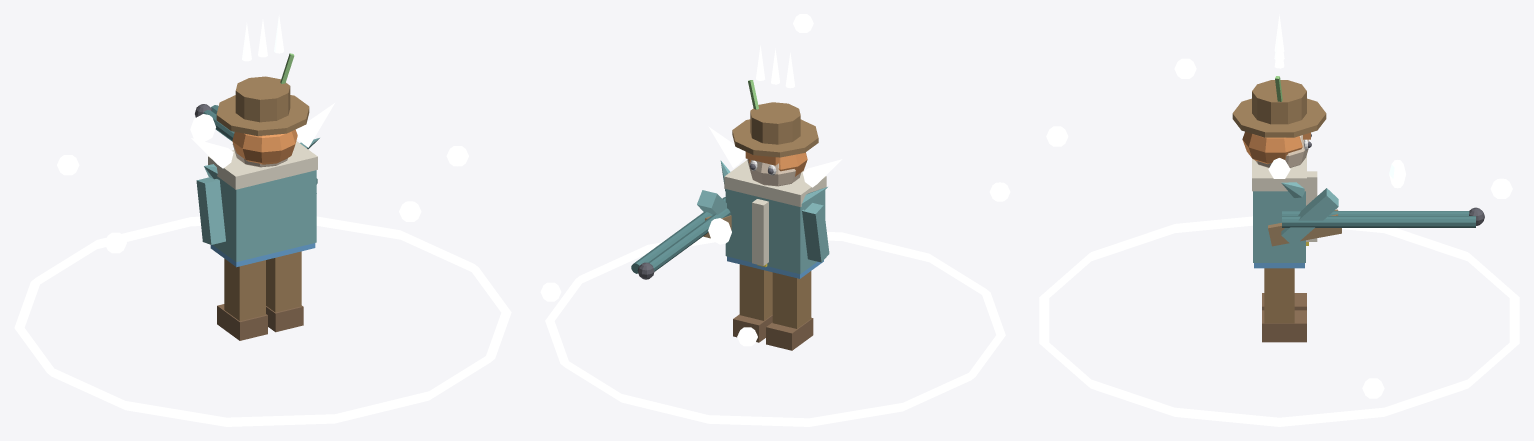
Rendered from evolved_hunter.glb.
3 renders of one model, left to right at view 1: azimuth 30°, elevation 25°; view 2: azimuth 150°, elevation 25°; view 3: azimuth 270°, elevation 25°, orthographic. The views are drawn at different scales.
Parts seen in each view (by area): view 1: evolved_hunter; view 2: evolved_hunter; view 3: evolved_hunter.
Boxes of the visible parts, x1=… form: evolved_hunter: x1=14, y1=15, x2=511, y2=426; evolved_hunter: x1=540, y1=14, x2=1010, y2=426; evolved_hunter: x1=1039, y1=14, x2=1519, y2=426.
Size of the model in its own units: 5.31 by 3.63 by 5.18.
